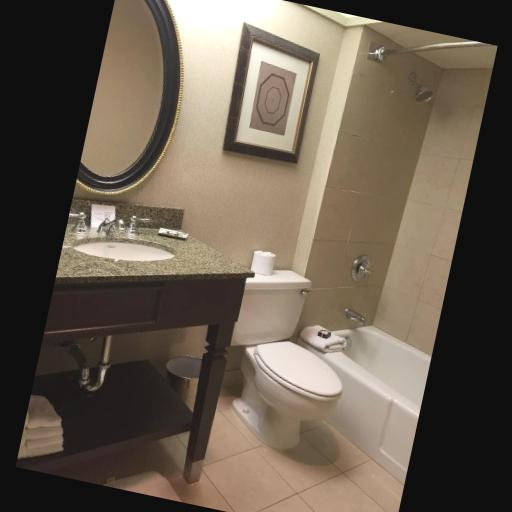clean mirror: (65, 0, 215, 207)
clean_bathtub: (292, 325, 431, 488)
clean_floor: (48, 402, 403, 512)
clean_sink: (14, 203, 253, 481)
clean_toilet: (203, 240, 357, 465)
folded_towel: (6, 385, 73, 465), (297, 318, 349, 358)
